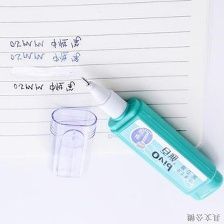correction_fluid: (76, 73, 224, 204)
